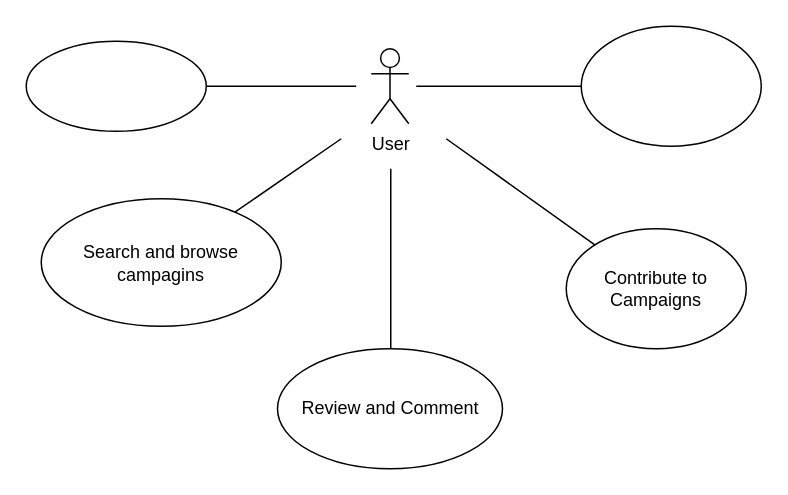
This 788x495 diagram has some shape labels left out. Each missing label, with the centre of its shape:
"Follow Campaigns" belongs at point (670, 85).
"Register and login" belongs at point (115, 85).
